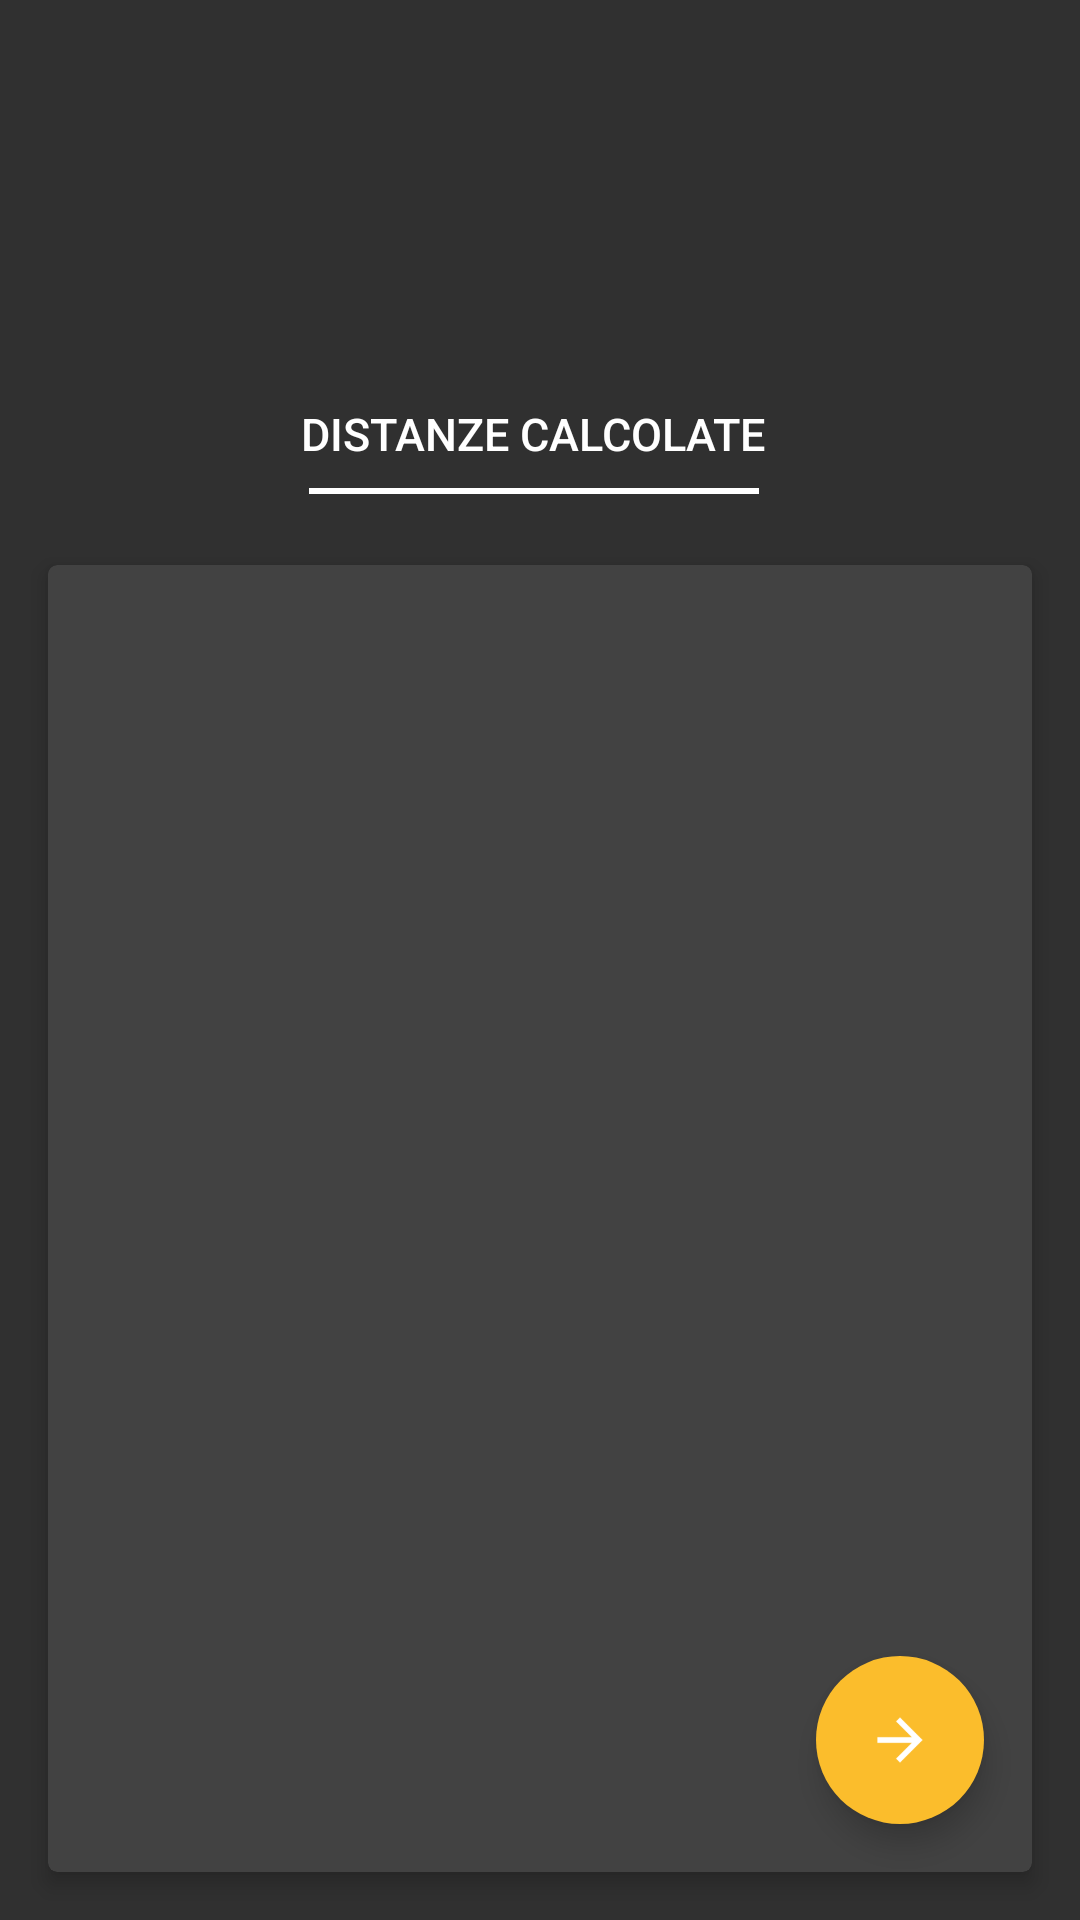

Named icons in this screenshot (1080px×1920px) and their centers, (x=x, y=y):
arrow forward: (x=900, y=1740)
